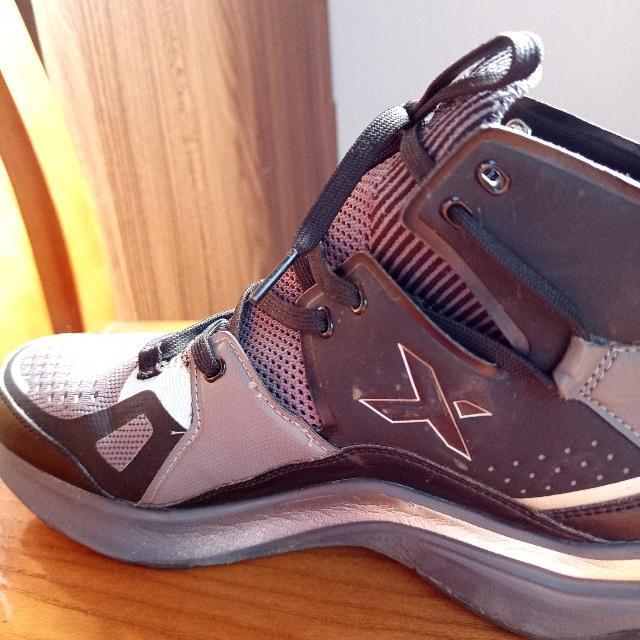broken-error: (243, 379, 264, 402)
